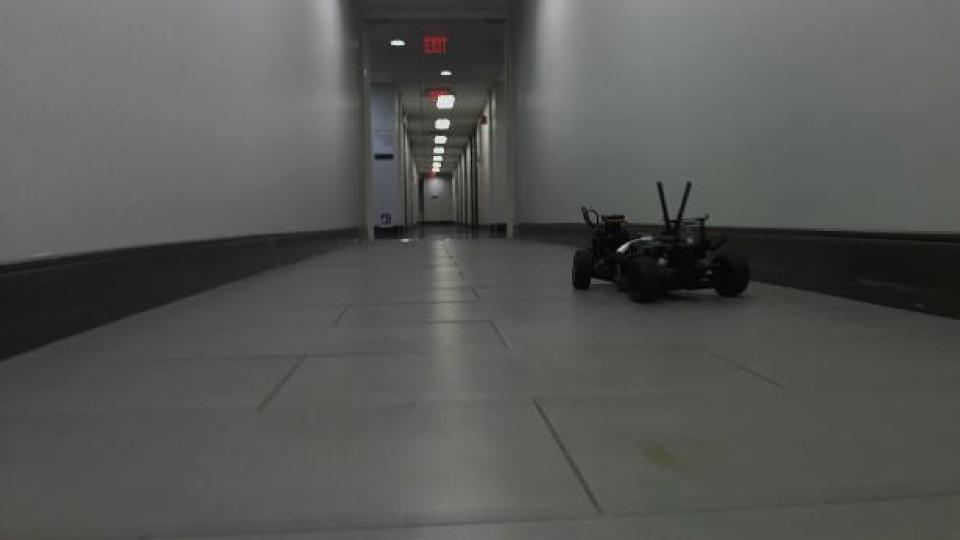car: (569, 178, 754, 306)
